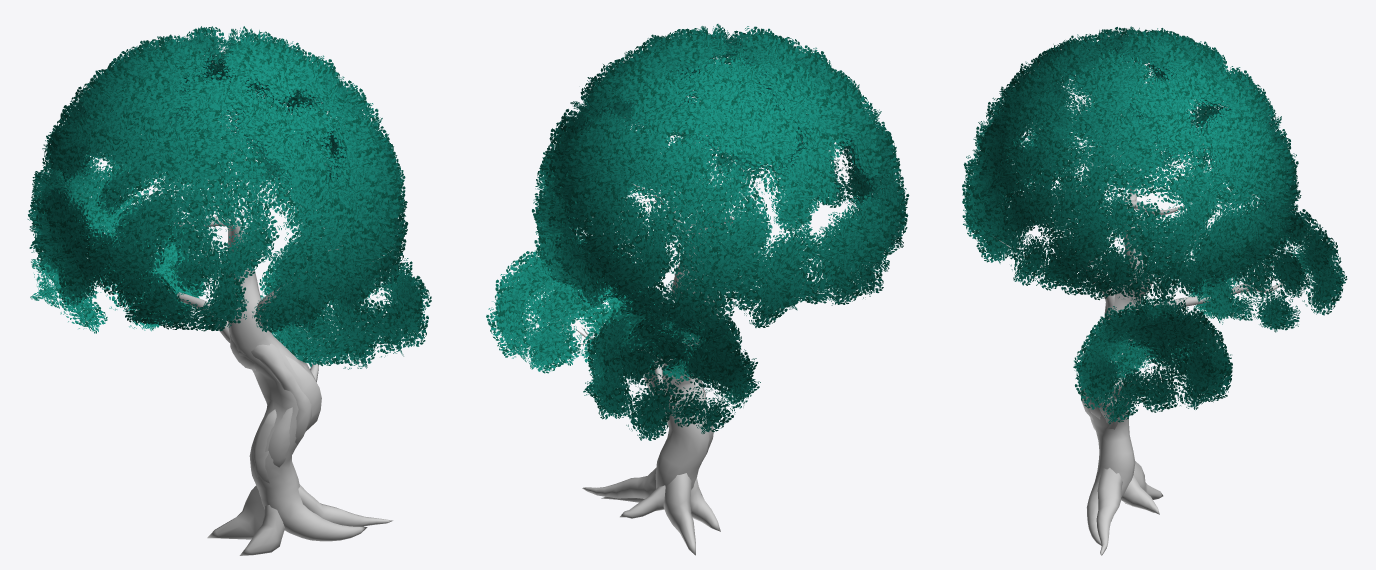
The model's file is Tree_S_LV2.fbx.
The picture shows the model from 3 angles, left to right: view 1: azimuth 30°, elevation 25°; view 2: azimuth 150°, elevation 25°; view 3: azimuth 270°, elevation 25°; orthographic projection. The views are drawn at different scales.
Visible parts, largest first — view 1: Tree_S_L_Leaves1, Tree_S_L, Tree_S_L_Leaves2, Tree_S_L_Leaves3; view 2: Tree_S_L_Leaves1, Tree_S_L_Leaves3, Tree_S_L_Leaves2, Tree_S_L; view 3: Tree_S_L_Leaves1, Tree_S_L_Leaves2, Tree_S_L_Leaves3, Tree_S_L.
Part boxes in pixels (x1,y1,x2,y2): Tree_S_L_Leaves1: [27, 26, 408, 332]; Tree_S_L: [162, 204, 392, 555]; Tree_S_L_Leaves2: [259, 229, 431, 369]; Tree_S_L_Leaves3: [30, 195, 206, 333]; Tree_S_L_Leaves1: [532, 24, 909, 335]; Tree_S_L_Leaves3: [583, 292, 760, 440]; Tree_S_L_Leaves2: [486, 232, 658, 373]; Tree_S_L: [575, 184, 748, 555]; Tree_S_L_Leaves1: [962, 26, 1301, 303]; Tree_S_L_Leaves2: [1073, 295, 1232, 424]; Tree_S_L_Leaves3: [1188, 204, 1347, 332]; Tree_S_L: [993, 177, 1305, 555].
Size of the model in its own units: 1979 by 2471 by 1997.
